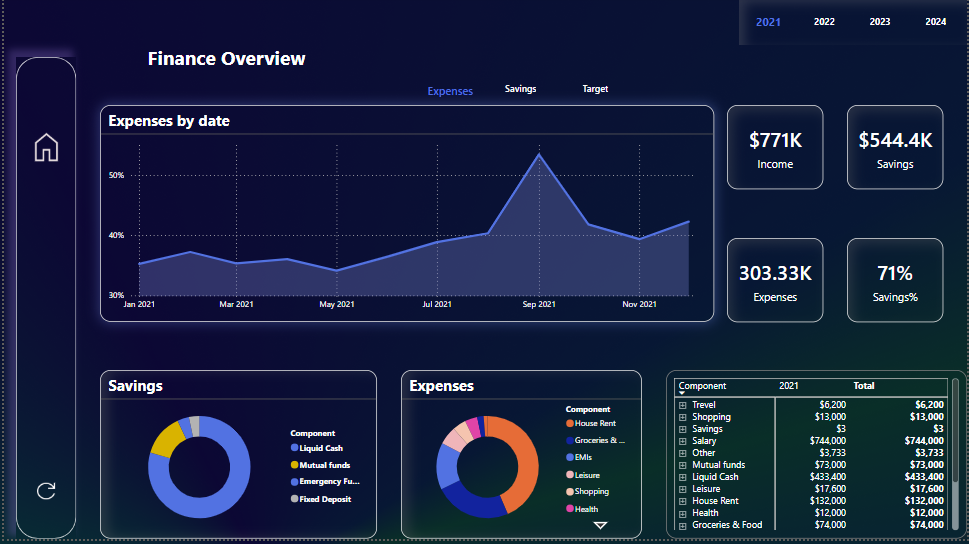

The dashboard page shown, as its layout file describes it:
{"tool":"powerbi","page":{"name":"finance 1","canvas":[1280,720],"ordinal":0},"visuals":[{"type":"card","fields":{"Values":["FinData.Income"]},"box":[960,144,128,112],"z":0},{"type":"card","fields":{"Values":["FinData.SAVINGS"]},"box":[1120,144,128,112],"z":1000},{"type":"card","fields":{"Values":["FinData.Expenses"]},"box":[960,320,128,112],"z":3000},{"type":"card","fields":{"Values":["FinData.savings%"]},"box":[1120,320,128,112],"z":5000},{"type":"advancedSlicerVisual","fields":{"Values":["FinData.Attribute.Variation.Date Hierarchy.Year"]},"box":[976,0,304,64],"z":6000},{"type":"donutChart","title":"Savings","fields":{"Category":["FinData.Component"],"Y":["FinData.SAVINGS"]},"box":[128,496,368,224],"z":7000},{"type":"pivotTable","fields":{"Rows":["FinData.Component","FinData.Type"],"Values":["FinData.Total Value"],"Columns":["FinData.YEAR"]},"box":[880,496,400,224],"z":8000},{"type":"donutChart","title":"Expenses","fields":{"Category":["FinData.Component"],"Y":["FinData.Expense"]},"box":[528,496,320,224],"z":10000},{"type":"areaChart","fields":{"Category":["FinData.Attribute.Variation.Date Hierarchy.Year","FinData.Attribute.Variation.Date Hierarchy.Quarter","FinData.Attribute.Variation.Date Hierarchy.Month","FinData.Attribute.Variation.Date Hierarchy.Day"],"Y":["FinData.Line_chart_measures"]},"box":[128,144,816,288],"z":11000},{"type":"advancedSlicerVisual","fields":{"Values":["Line selection table.type"]},"box":[544,96,416,48],"z":12000},{"type":"shape","box":[96,32,400,96],"z":13000},{"type":"shape","box":[16,80,80,640],"z":14000},{"type":"image","box":[32,176,48,48],"z":15000},{"type":"image","box":[32,640,48,32],"z":16000}]}

Visuals, with their boxes in screenshot pixels (x1, y1, x2, y2), scaled from the page's 1280x720 canvas onto the 969x544 screenshot:
card - FinData.Income: bbox(727, 109, 824, 193)
card - FinData.SAVINGS: bbox(848, 109, 945, 193)
card - FinData.Expenses: bbox(727, 242, 824, 326)
card - FinData.savings%: bbox(848, 242, 945, 326)
advancedSlicerVisual - FinData.Attribute.Variation.Date Hierarchy.Year: bbox(739, 0, 968, 48)
"Savings" donutChart: bbox(97, 375, 375, 543)
pivotTable - FinData.Component x FinData.Type: bbox(666, 375, 968, 543)
"Expenses" donutChart: bbox(400, 375, 642, 543)
areaChart - FinData.Attribute.Variation.Date Hierarchy.Year x FinData.Attribute.Variation.Date Hierarchy.Quarter: bbox(97, 109, 715, 326)
advancedSlicerVisual - Line selection table.type: bbox(412, 73, 727, 109)
shape: bbox(73, 24, 375, 97)
shape: bbox(12, 60, 73, 543)
image: bbox(24, 133, 61, 169)
image: bbox(24, 484, 61, 508)
